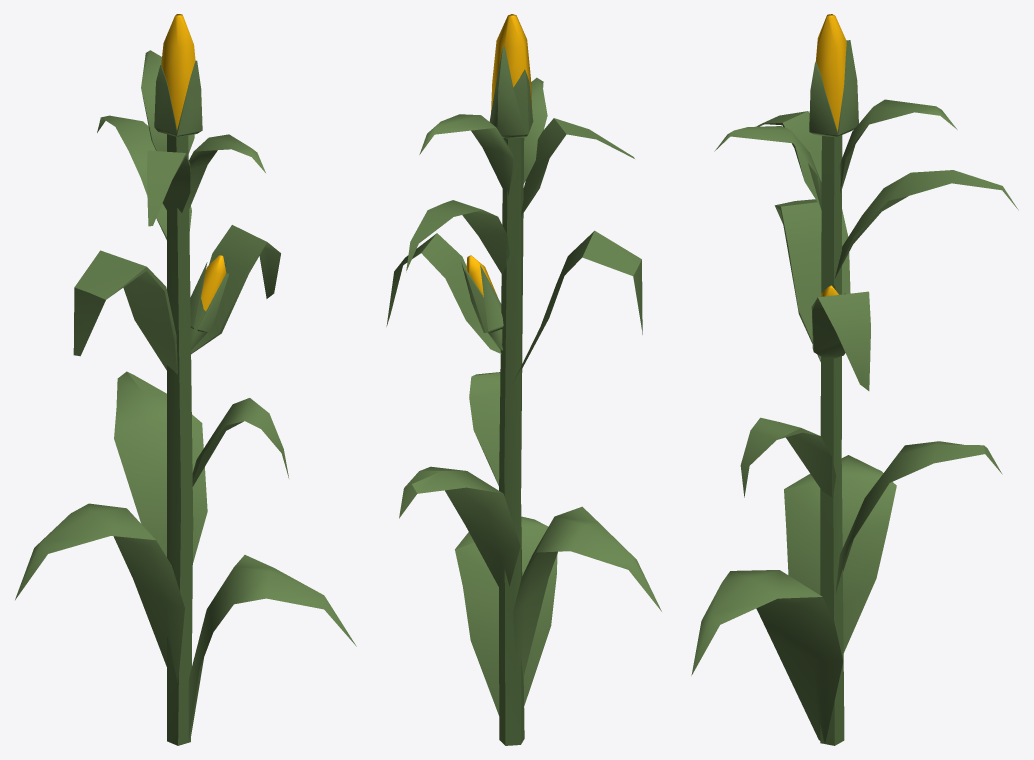
Rendered from SM_Plants_CornPlant_03.obj.
3 renders of one model, left to right at view 1: azimuth 30°, elevation 25°; view 2: azimuth 150°, elevation 25°; view 3: azimuth 270°, elevation 25°, orthographic.
Parts seen in each view (by area): view 1: SM_Plants_CornPlant_03_Mat_SwatchOverlay_Farm_01_Inst; view 2: SM_Plants_CornPlant_03_Mat_SwatchOverlay_Farm_01_Inst; view 3: SM_Plants_CornPlant_03_Mat_SwatchOverlay_Farm_01_Inst.
Part boxes in pixels (left/top/right/bottom): SM_Plants_CornPlant_03_Mat_SwatchOverlay_Farm_01_Inst: left=15, top=14, right=356, bottom=745; SM_Plants_CornPlant_03_Mat_SwatchOverlay_Farm_01_Inst: left=386, top=14, right=661, bottom=745; SM_Plants_CornPlant_03_Mat_SwatchOverlay_Farm_01_Inst: left=691, top=14, right=1018, bottom=745.
Bounding box in the file's own units: 0.5334 × 1.38 × 0.568.
1 material, 1 textured.
